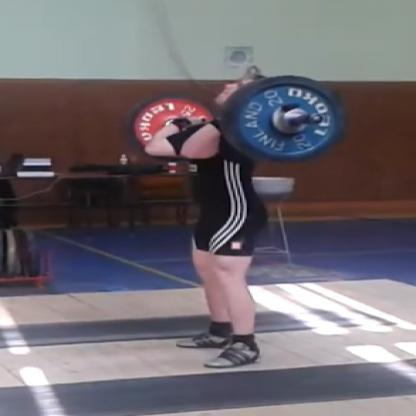barbell: (134, 77, 342, 168)
